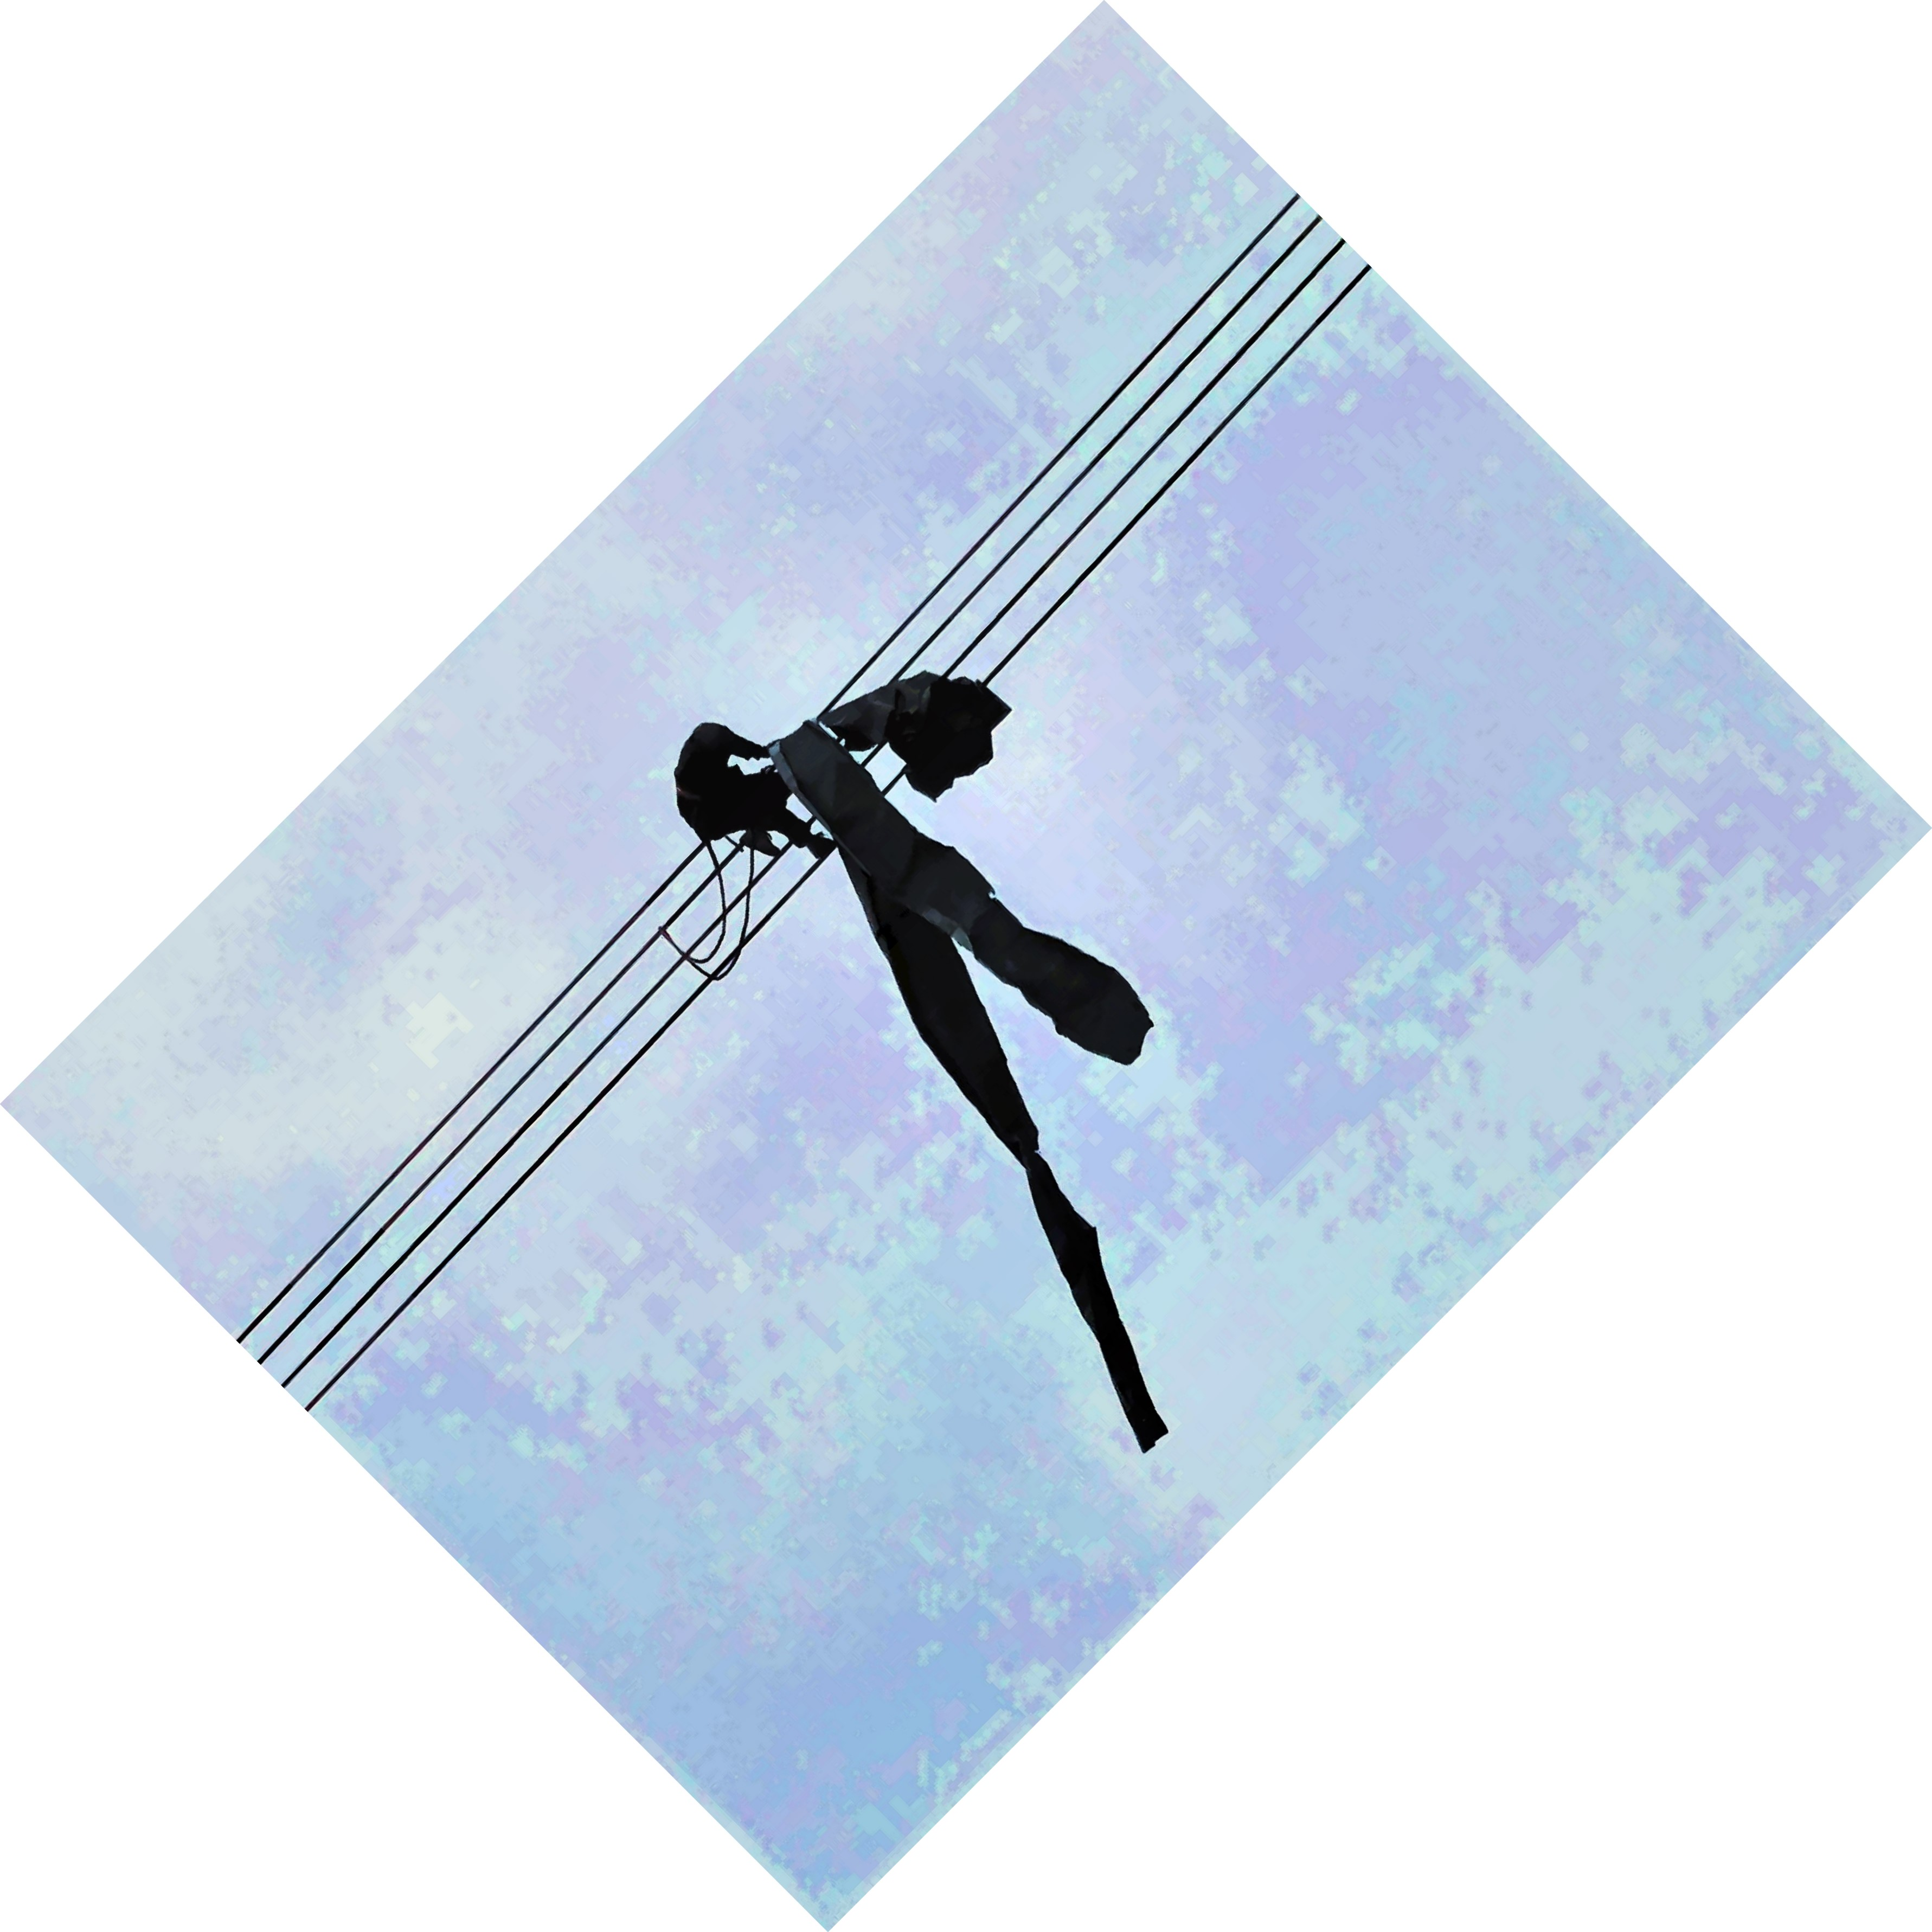wire foreign body: (734, 697, 1224, 1472)
